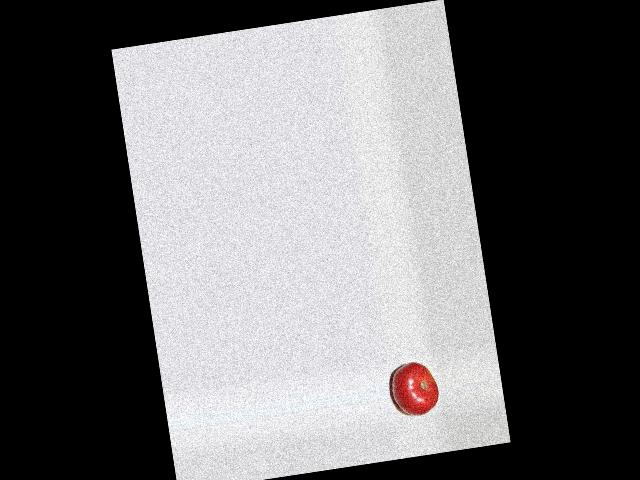tomato: (389, 358, 441, 419)
